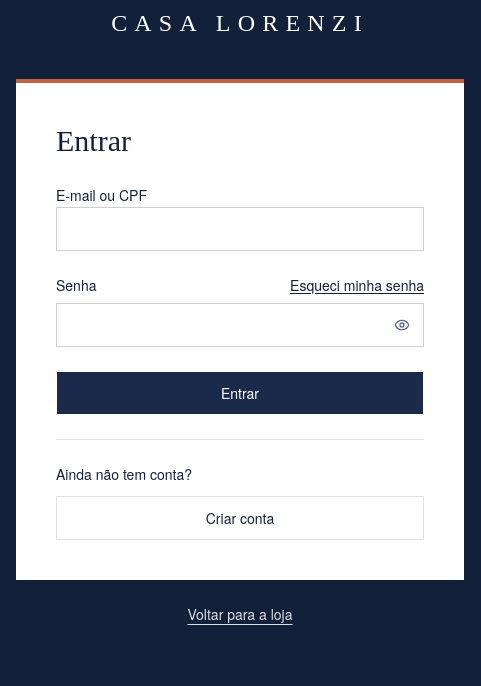
Scenario: tela Entrar › outro erro diz o que fazer em vez da frase de credencial
In the field labelled "E-mail ou CPF": (240, 229) [56,207,424,251], type "52998224725"
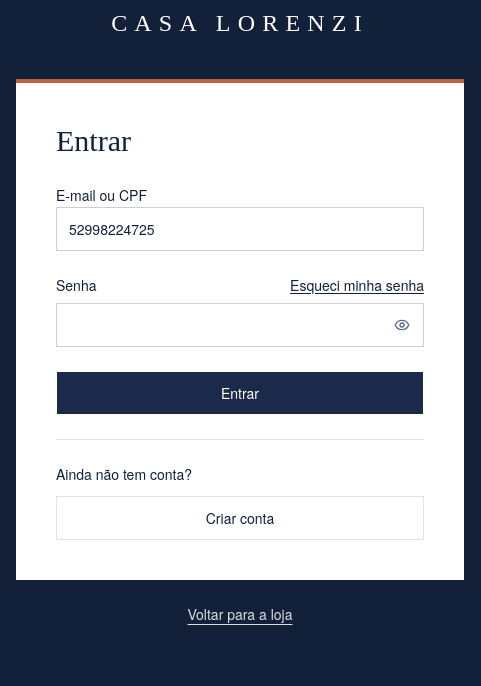
In the password field labelled "Senha": (240, 325) [56,303,424,347], type "segredo1"
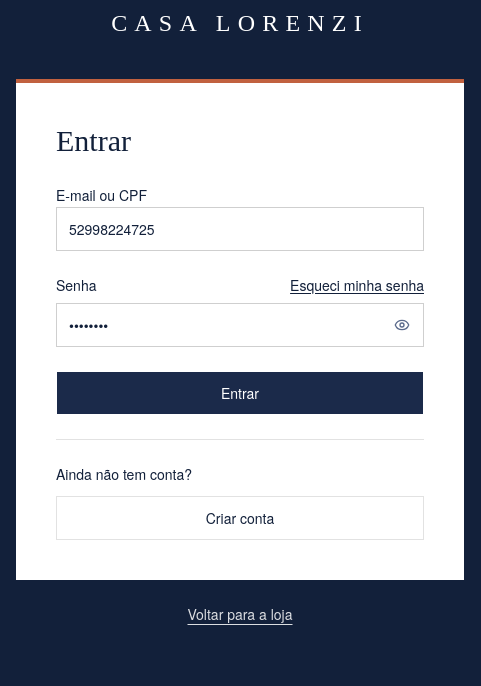
Click the button "Entrar": (240, 393) [56,371,424,415]
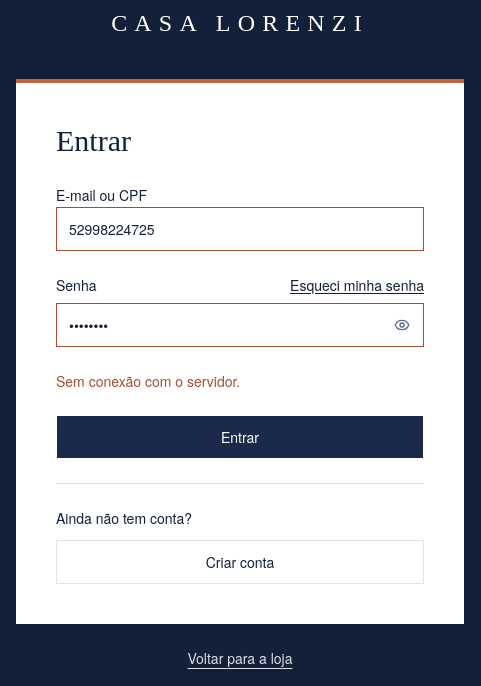
Check: the text "Sem conexão com o servidor." is shown, box [56,371,240,391]
